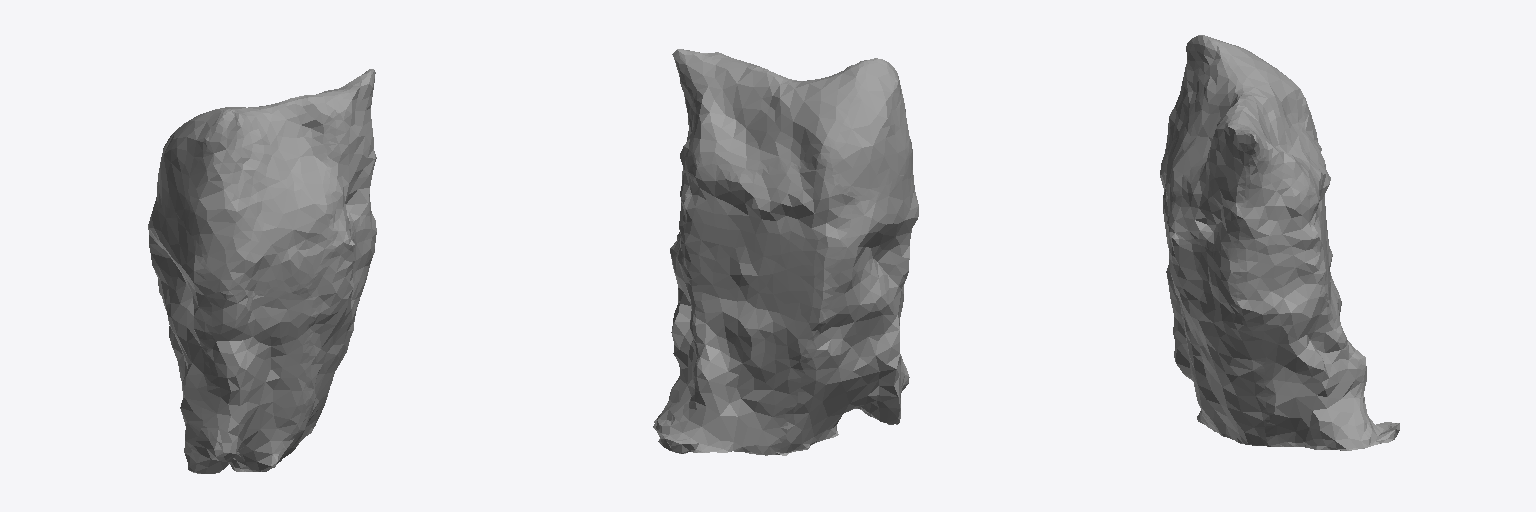
File: first_years_take_and_toss_straw_cup.obj
3 renders of one model, left to right at view 1: azimuth 30°, elevation 25°; view 2: azimuth 150°, elevation 25°; view 3: azimuth 270°, elevation 25°, orthographic.
Size of the model in its own units: 0.1343 by 0.222 by 0.1298.